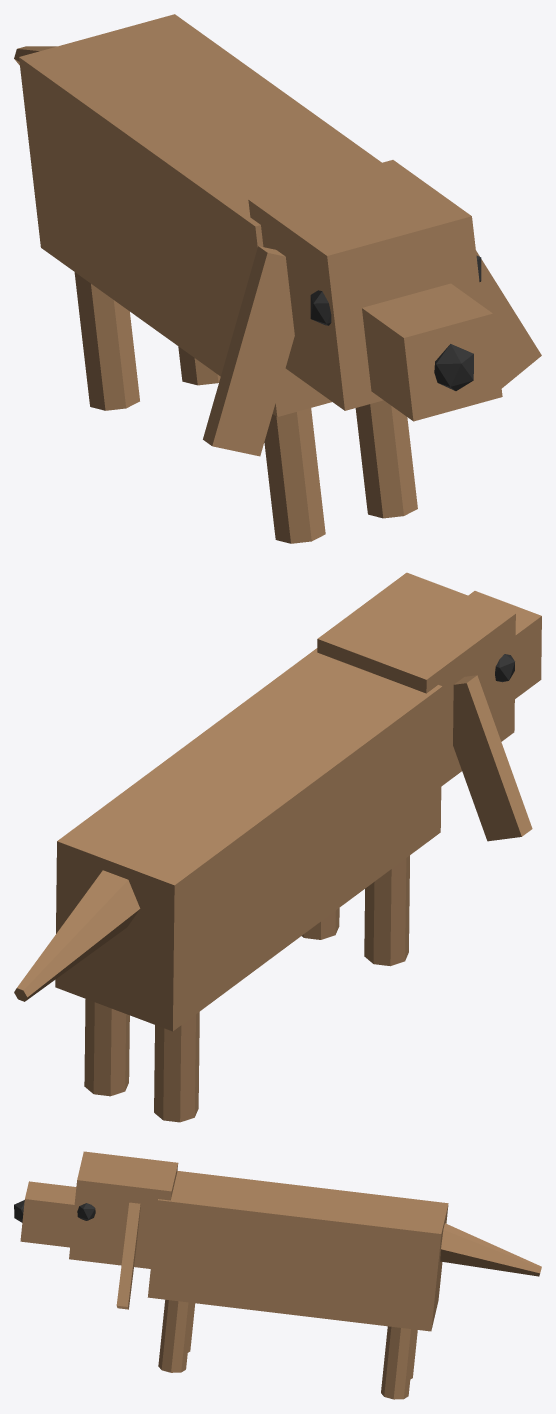
Rendered from Dachshund_LowPoly.glb.
3 views of the same model, one above another, from view 1: azimuth 30°, elevation 25°; view 2: azimuth 150°, elevation 25°; view 3: azimuth 270°, elevation 25° (orthographic). The views are drawn at different scales.
Parts seen in each view (by area): view 1: Dachshund_LowPoly; view 2: Dachshund_LowPoly; view 3: Dachshund_LowPoly.
Part boxes in pixels (x1,y1,x2,y2): Dachshund_LowPoly: [14, 14, 541, 543]; Dachshund_LowPoly: [14, 572, 541, 1122]; Dachshund_LowPoly: [14, 1151, 541, 1399].
Size of the model in its own units: 0.2824 by 0.3493 by 0.805.
